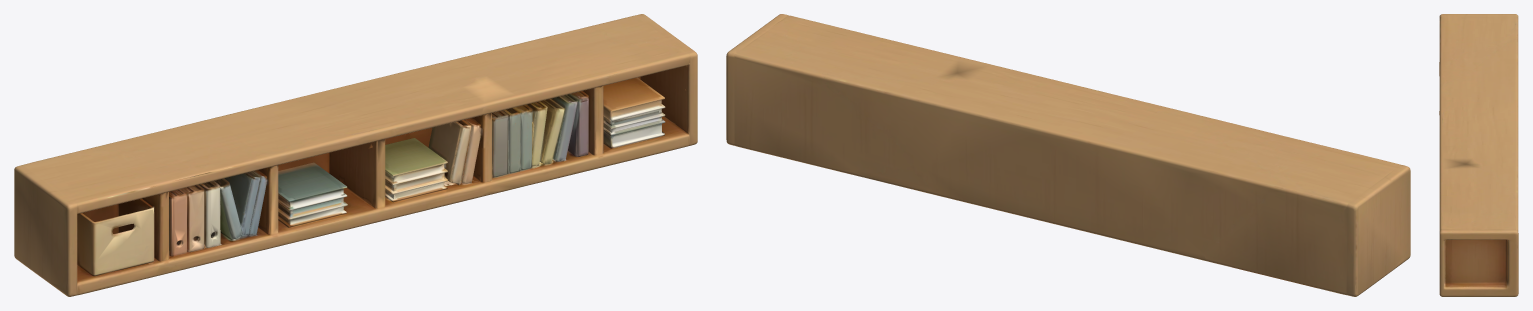
Rendered from bookshelf.glb.
3 views of the same model, side by side, from view 1: azimuth 30°, elevation 25°; view 2: azimuth 150°, elevation 25°; view 3: azimuth 270°, elevation 25° (orthographic). The views are drawn at different scales.
Parts seen in each view (by area): view 1: node_0; view 2: node_0; view 3: node_0.
Boxes of the visible parts, x1,y1,x2,y2 form: node_0: [14, 14, 697, 296]; node_0: [726, 14, 1410, 296]; node_0: [1439, 14, 1518, 296].
Bounding box in the file's own units: 1.18 × 0.1655 × 0.1798.
1 material, 1 textured.
